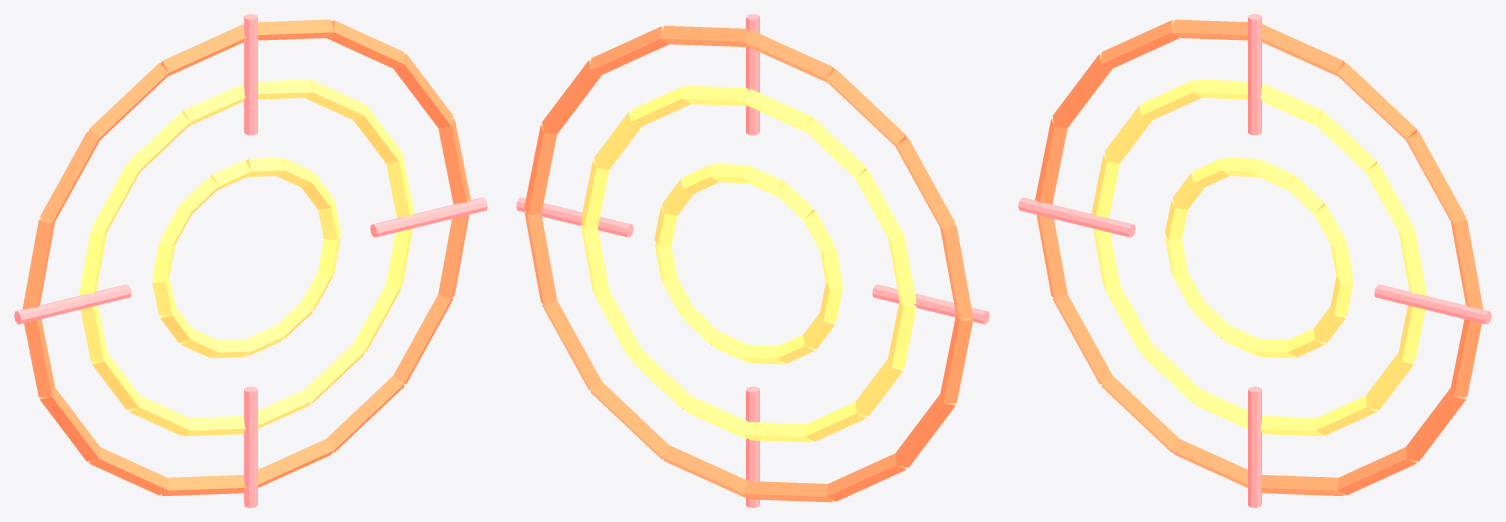
File: reticle.glb
3 views of the same model, side by side, from view 1: azimuth 30°, elevation 25°; view 2: azimuth 150°, elevation 25°; view 3: azimuth 330°, elevation 25° (orthographic).
Visible parts, largest first — view 1: Reticle dimensional effect.001; view 2: Reticle dimensional effect.001; view 3: Reticle dimensional effect.001.
Boxes of the visible parts, x1,y1,x2,y2 form: Reticle dimensional effect.001: [14, 14, 487, 507]; Reticle dimensional effect.001: [516, 14, 989, 507]; Reticle dimensional effect.001: [1018, 14, 1491, 507].
Bounding box in the file's own units: 1.9 × 1.9 × 0.09.
